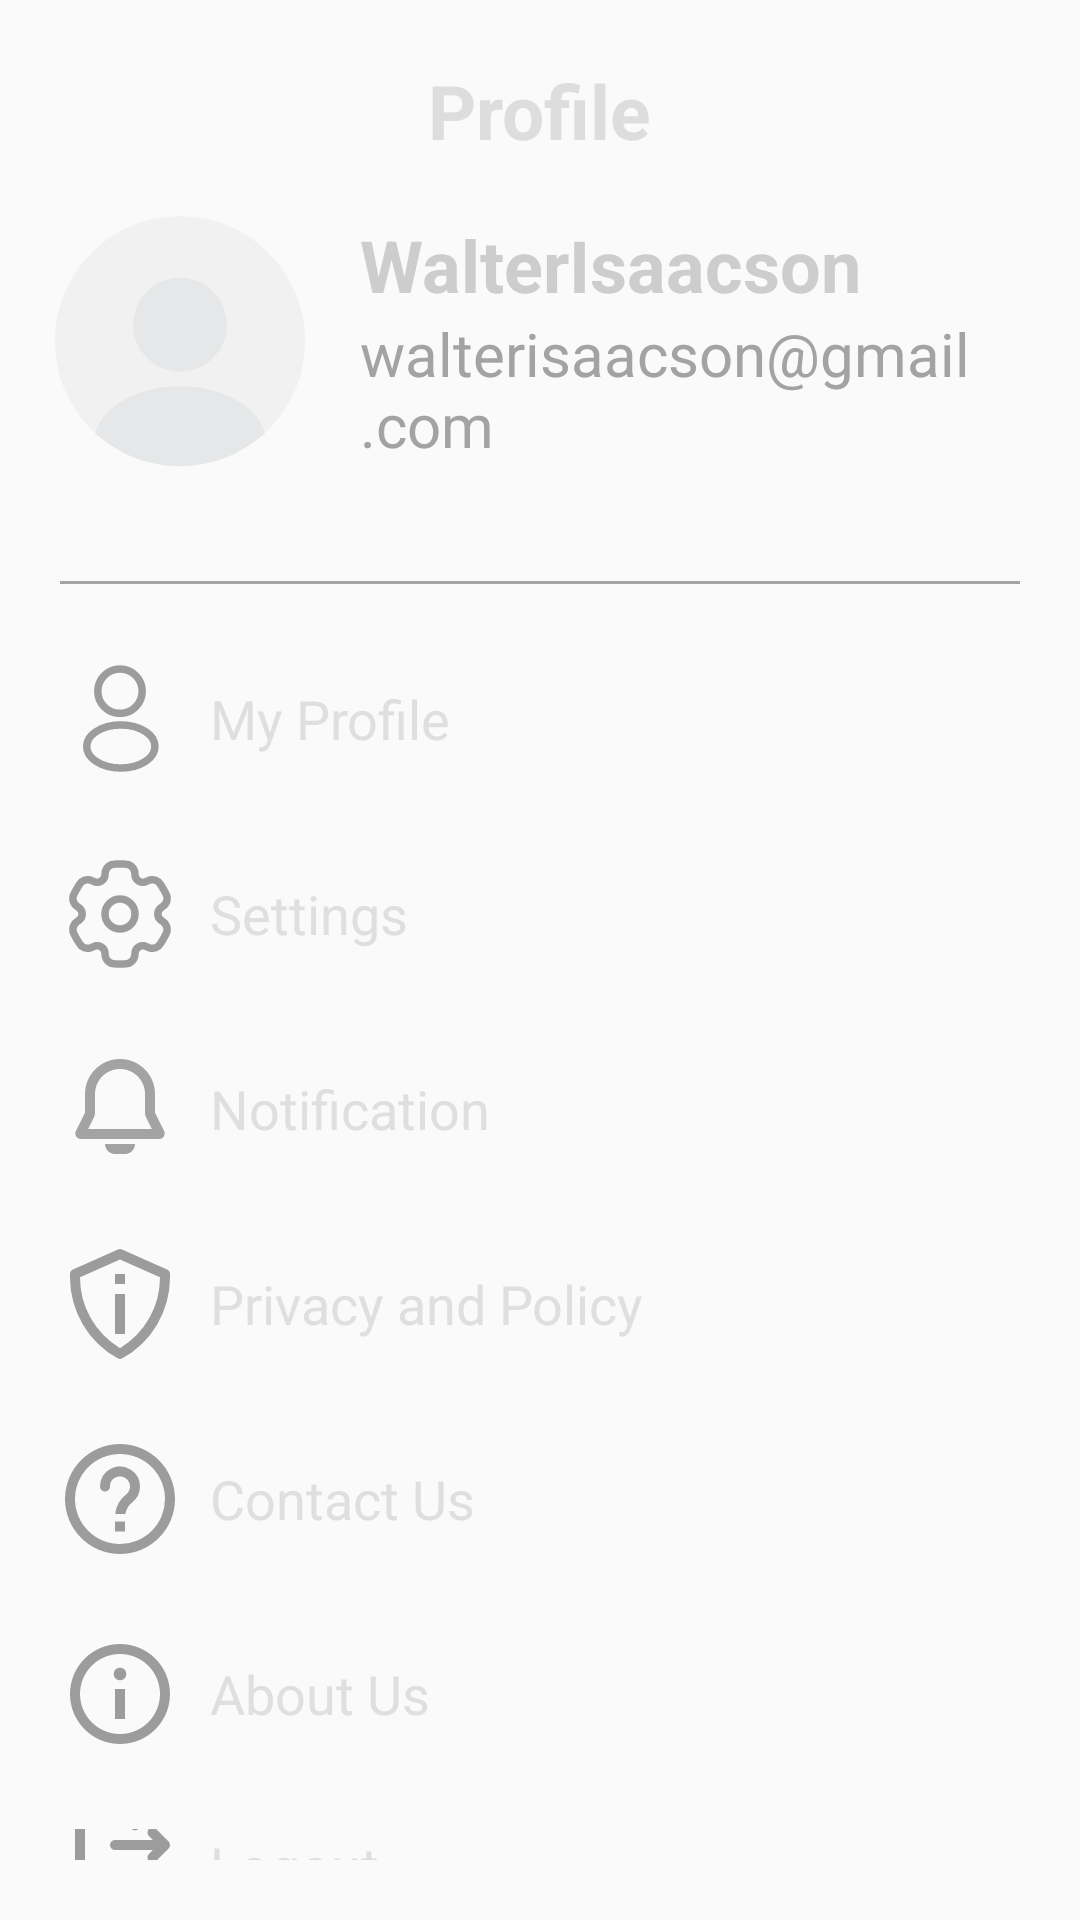

Screen size 1080 × 1920. Icon name, then its box in pixels as (x1=x1, y1=y1, x2=x2, y2=y2):
faq: (x1=65, y1=1444, x2=175, y2=1554)
